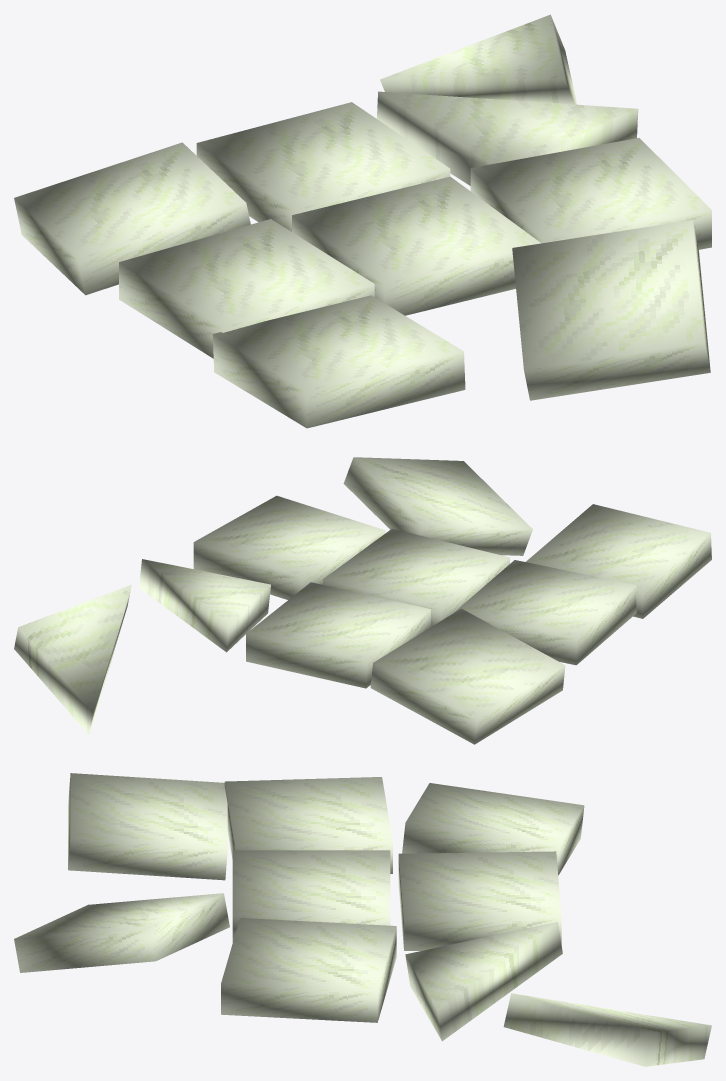
Rendered from marble04.obj.
The picture shows the model from 3 angles, top to bottom: view 1: azimuth 30°, elevation 25°; view 2: azimuth 150°, elevation 25°; view 3: azimuth 270°, elevation 25°; orthographic projection. The views are drawn at different scales.
Parts seen in each view (by area): view 1: Duplicate05, Duplicate04, Box02, Duplicate09, Duplicate01, Duplicate08, Duplicate02, Duplicate06, Duplicate07; view 2: Duplicate09, Duplicate08, Duplicate05, Duplicate02, Duplicate01, Duplicate04, Box02, Duplicate07, Duplicate06; view 3: Duplicate02, Duplicate04, Duplicate08, Duplicate01, Box02, Duplicate05, Duplicate09, Duplicate06, Duplicate07.
Boxes of the visible parts, x1,y1,x2,y2 form: Duplicate05: (512, 220, 710, 400); Duplicate04: (212, 295, 465, 428); Box02: (292, 176, 540, 315); Duplicate09: (14, 142, 250, 295); Duplicate01: (119, 219, 374, 358); Duplicate08: (196, 102, 450, 231); Duplicate02: (470, 138, 711, 249); Duplicate06: (377, 91, 638, 185); Duplicate07: (380, 14, 576, 104); Duplicate09: (370, 608, 565, 744); Duplicate08: (246, 582, 430, 688); Duplicate05: (343, 457, 532, 555); Duplicate02: (193, 495, 385, 599); Duplicate01: (454, 560, 636, 665); Duplicate04: (526, 504, 711, 618); Box02: (323, 528, 509, 626); Duplicate07: (14, 584, 131, 734); Duplicate06: (139, 559, 270, 652); Duplicate02: (221, 918, 396, 1022); Duplicate04: (68, 773, 227, 880); Duplicate08: (398, 851, 561, 950); Duplicate01: (224, 777, 392, 873); Box02: (232, 850, 390, 942); Duplicate05: (14, 893, 229, 972); Duplicate09: (402, 783, 584, 875); Duplicate06: (405, 922, 562, 1041); Duplicate07: (503, 993, 711, 1066).
Size of the model in its own units: 116 by 25.55 by 134.
